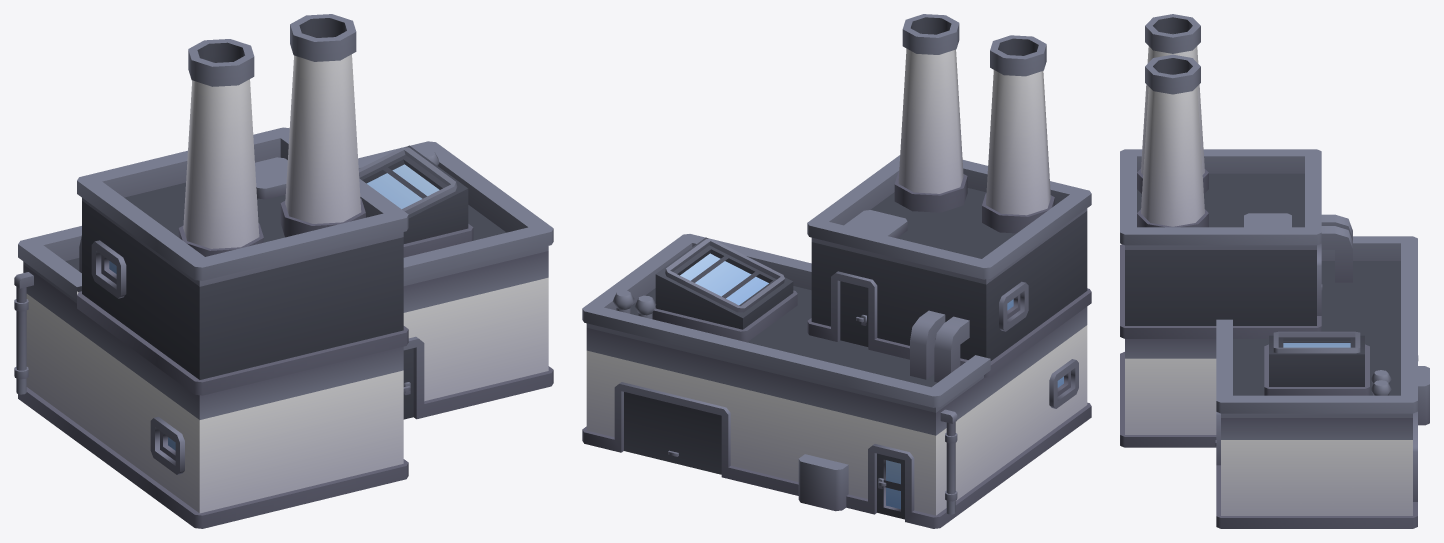
The model's file is warehouse_2.fbx.
3 renders of one model, left to right at view 1: azimuth 30°, elevation 25°; view 2: azimuth 150°, elevation 25°; view 3: azimuth 270°, elevation 25°, orthographic. The views are drawn at different scales.
Visible parts, largest first — view 1: warehouse_2; view 2: warehouse_2; view 3: warehouse_2.
Boxes of the visible parts, box(x1,y1,x2,y2) form: warehouse_2: box(14, 14, 553, 528); warehouse_2: box(582, 14, 1091, 528); warehouse_2: box(1120, 14, 1429, 528).
Size of the model in its own units: 1.68 by 1.65 by 1.29.
Materials: 2 (2 with a texture image).
